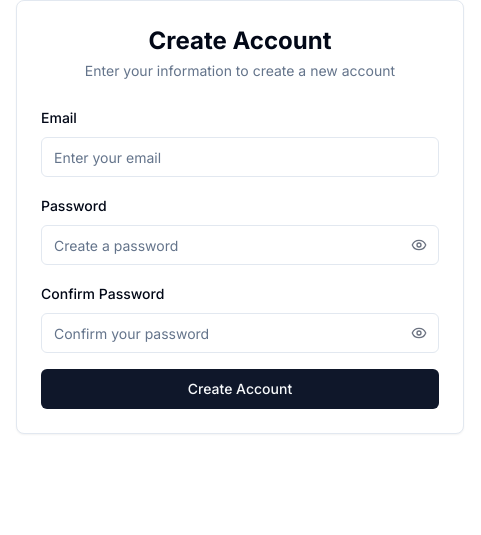
Test: RegisterForm › shows validation errors for empty fields
Click the button "Create Account" at (240, 389), box [41, 369, 439, 409]
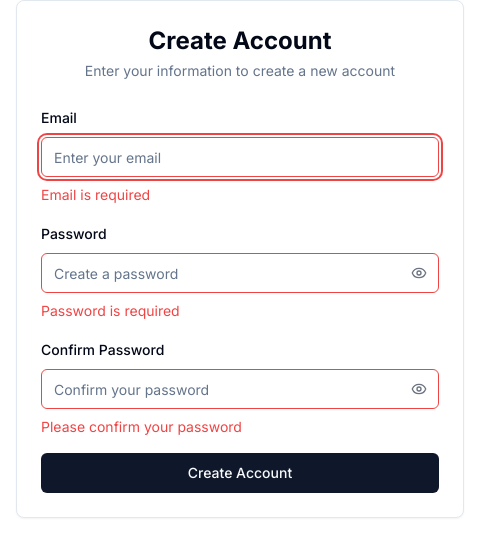
Now the text "Email is required" is shown, box [41, 186, 150, 203]
Now the text "Password is required" is shown, box [41, 302, 180, 319]
Now the text "Please confirm your password" is shown, box [41, 418, 242, 435]
